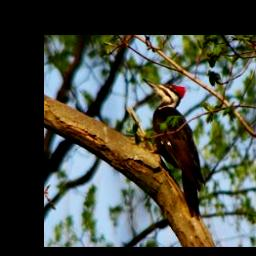Woodpecker: (139, 75, 207, 221)
